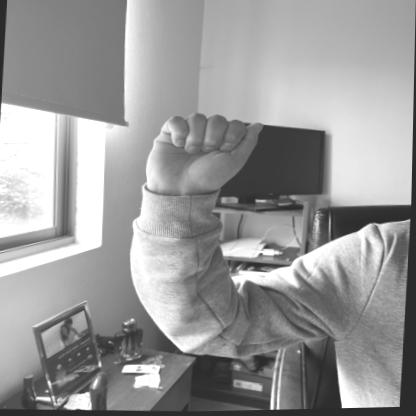A: (142, 108, 267, 201)
